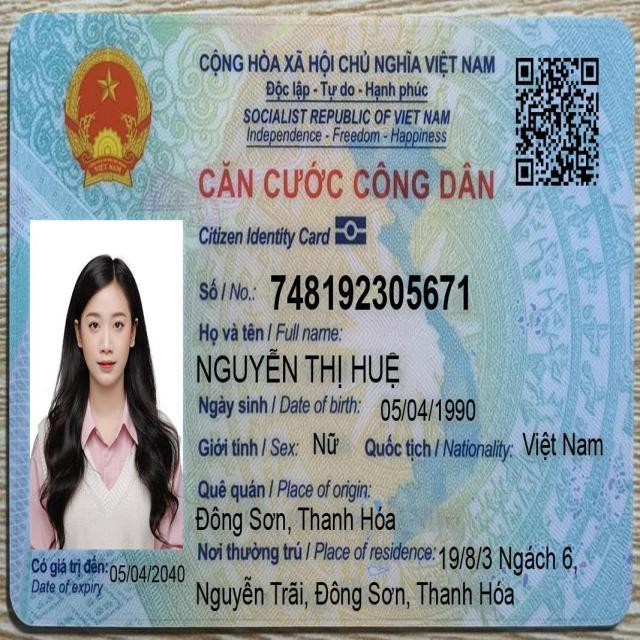current_place: (194, 573, 517, 615), (436, 541, 579, 579)
dob: (378, 394, 479, 427)
expire_date: (108, 561, 187, 587)
gender: (311, 427, 341, 460)
id: (265, 268, 473, 319)
name: (194, 346, 403, 392)
nationality: (520, 427, 605, 466)
origin_place: (193, 502, 399, 541)
qr: (512, 50, 602, 193)
